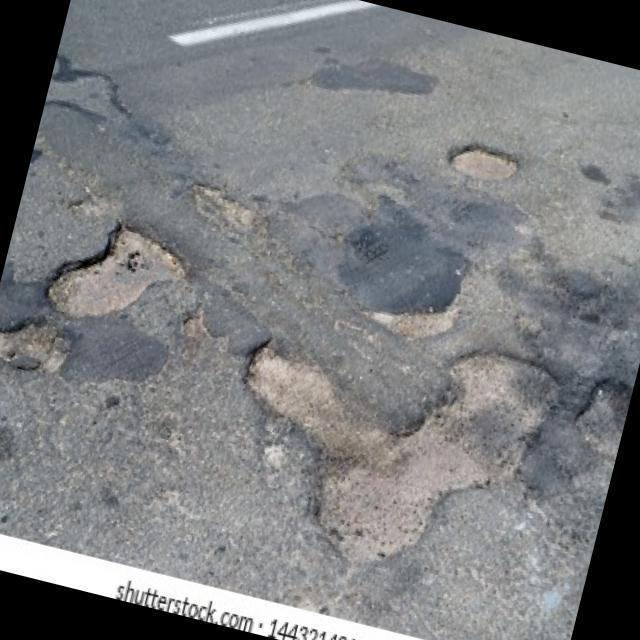pothole: (205, 291, 566, 602), (41, 206, 191, 342), (356, 283, 463, 353), (563, 368, 634, 459), (0, 306, 75, 381), (178, 178, 261, 235), (445, 138, 522, 191), (177, 301, 239, 353)
